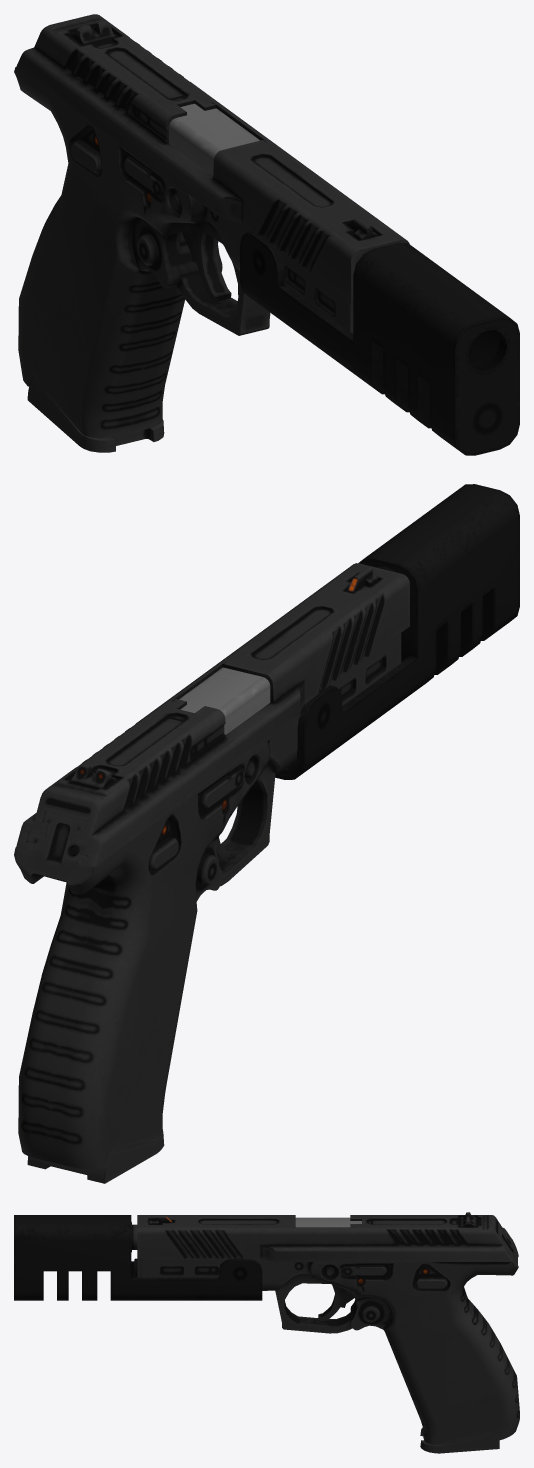
Rendered from pistolmeshfbx.fbx.
3 views of the same model, one above another, from view 1: azimuth 30°, elevation 25°; view 2: azimuth 150°, elevation 25°; view 3: azimuth 270°, elevation 25° (orthographic). The views are drawn at different scales.
Parts seen in each view (by area): view 1: base, slide, muzzler, clip, trigger; view 2: base, slide, muzzler, clip; view 3: base, slide, muzzler, clip, trigger.
Part boxes in pixels (box(x1,y1,x2,y2)): base: box(14, 67, 353, 438); slide: box(16, 14, 409, 302); muzzler: box(240, 231, 519, 455); clip: box(27, 377, 164, 452); trigger: box(181, 223, 231, 302); base: box(14, 567, 401, 1169); slide: box(16, 563, 409, 866); muzzler: box(275, 484, 519, 779); clip: box(27, 1129, 164, 1183); base: box(131, 1217, 519, 1444); slide: box(134, 1212, 512, 1277); muzzler: box(14, 1215, 262, 1300); clip: box(420, 1428, 499, 1453); trigger: box(318, 1284, 354, 1321).
Bounding box in the file's own units: 3.5 × 15.57 × 31.42.
